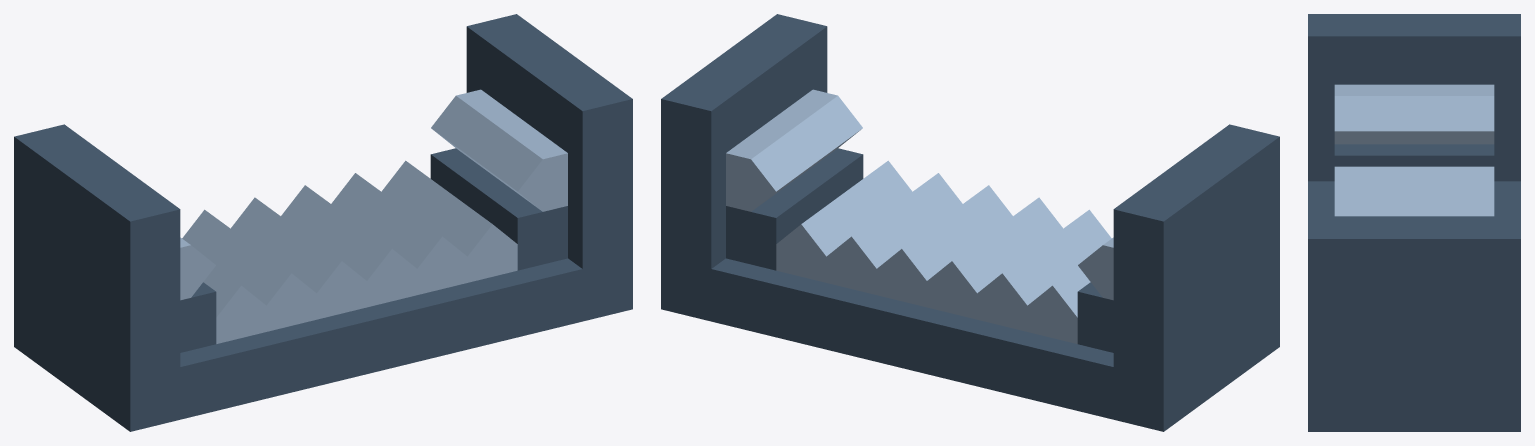
File: devilFaceBOTTOM.glb
3 renders of one model, left to right at view 1: azimuth 30°, elevation 25°; view 2: azimuth 150°, elevation 25°; view 3: azimuth 270°, elevation 25°, orthographic. The views are drawn at different scales.
Parts seen in each view (by area): view 1: generated(Clone); view 2: generated(Clone); view 3: generated(Clone).
Part boxes in pixels (x1,y1,x2,y2): generated(Clone): [14, 14, 632, 431]; generated(Clone): [661, 14, 1279, 431]; generated(Clone): [1308, 14, 1520, 431].
Size of the model in its own units: 10 by 4 by 4.
